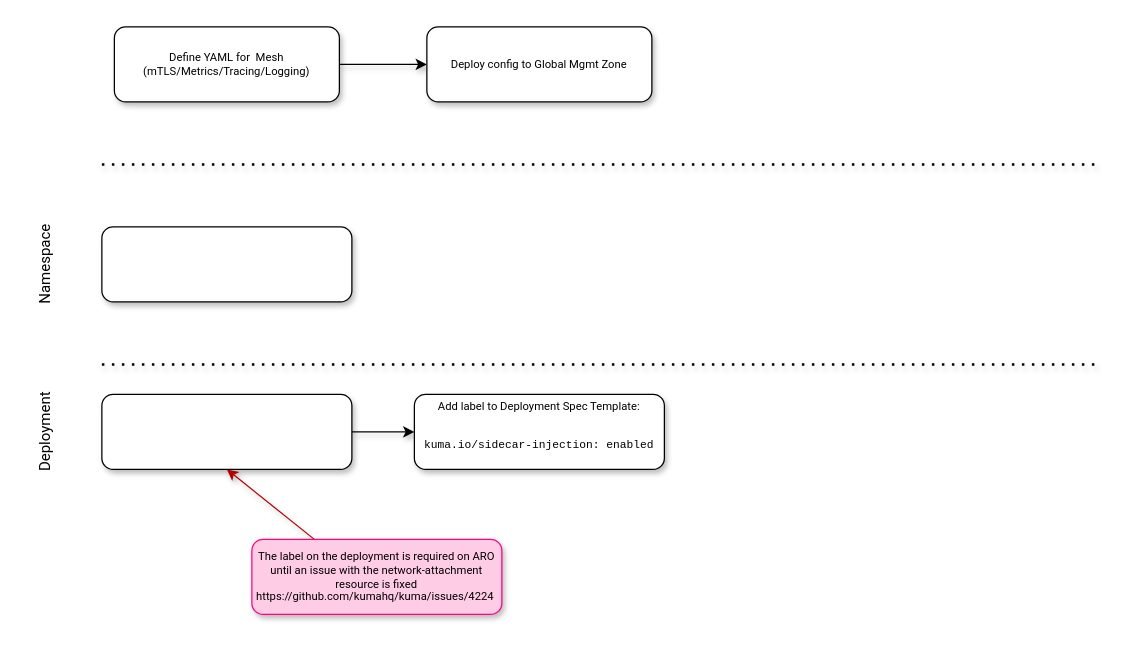
Some shapes in this 1133 by 645 pixel diagram are drawn without their labels. The shapes that lost their labels are listed below. From the top down, each one's centre as x and y in pixels, then its label:
(x=227, y=266): Add label to namespace: kuma.io/sidecar-injection : enabled
(x=227, y=433): Add label to namespace: kuma.io/sidecar-injection : disabled
